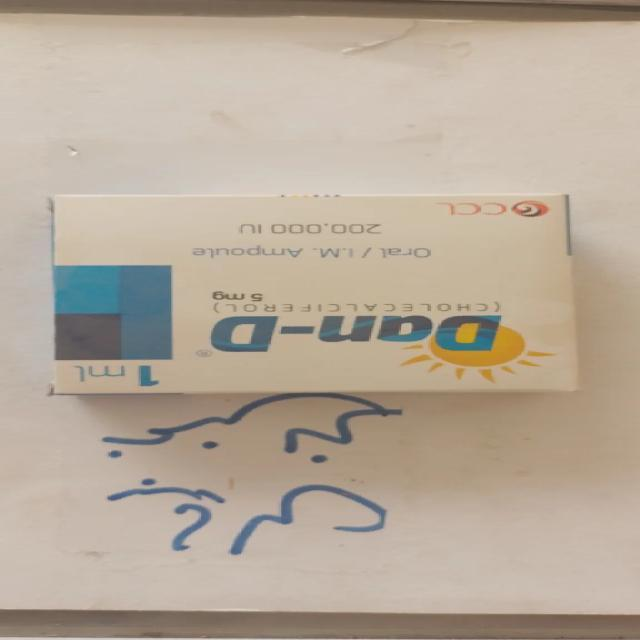drug-name: (204, 314, 503, 354)
